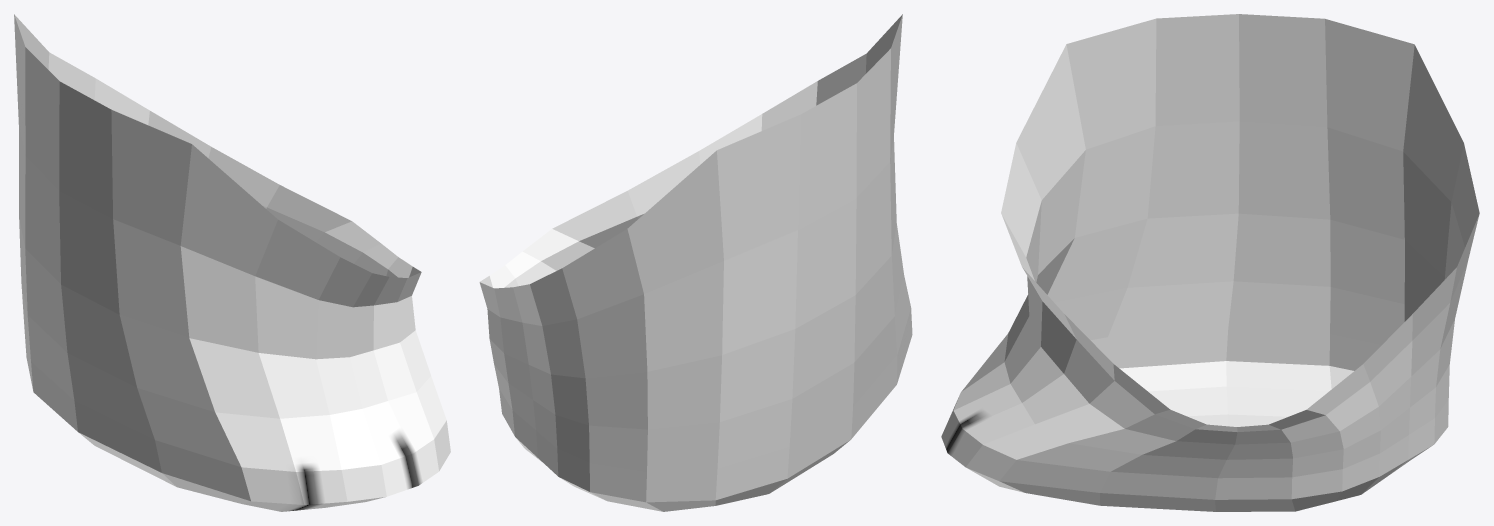
File: PiernaIzquierda.obj
3 views of the same model, side by side, from view 1: azimuth 30°, elevation 25°; view 2: azimuth 150°, elevation 25°; view 3: azimuth 270°, elevation 25° (orthographic). The views are drawn at different scales.
Visible parts, largest first — view 1: polySurface13 polySurface12 polySurface10; view 2: polySurface13 polySurface12 polySurface10; view 3: polySurface13 polySurface12 polySurface10.
Boxes of the visible parts, left/top/right/bottom form: polySurface13 polySurface12 polySurface10: left=14, top=14, right=450, bottom=511; polySurface13 polySurface12 polySurface10: left=479, top=14, right=912, bottom=511; polySurface13 polySurface12 polySurface10: left=941, top=14, right=1479, bottom=511.
Bounding box in the file's own units: 1.54 × 1.63 × 2.17.
1 material, 1 textured.
